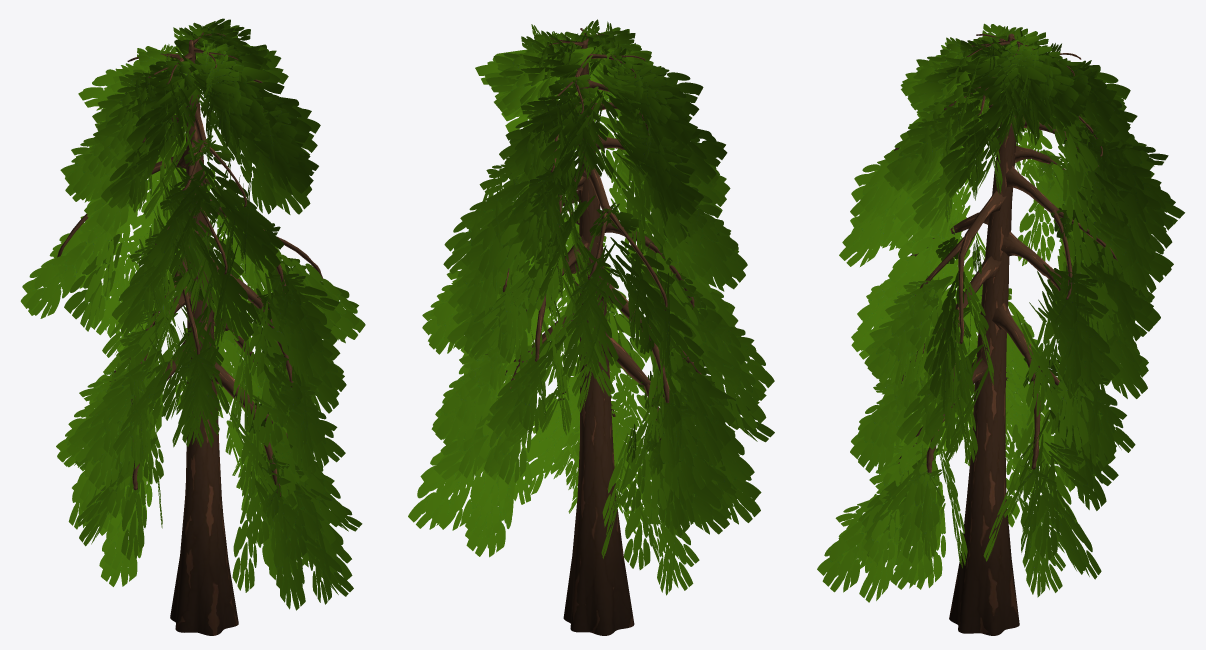
File: GiantPine_1.glb
3 views of the same model, side by side, from view 1: azimuth 30°, elevation 25°; view 2: azimuth 150°, elevation 25°; view 3: azimuth 270°, elevation 25° (orthographic). The views are drawn at different scales.
Visible parts, largest first — view 1: GiantPine_1; view 2: GiantPine_1; view 3: GiantPine_1.
Part boxes in pixels (left/top/right/bottom): GiantPine_1: left=20, top=18, right=365, bottom=635; GiantPine_1: left=408, top=19, right=774, bottom=635; GiantPine_1: left=817, top=23, right=1184, bottom=635.
Bounding box in the file's own units: 9.19 × 17.17 × 9.94.
Materials: 2 (2 with a texture image).
